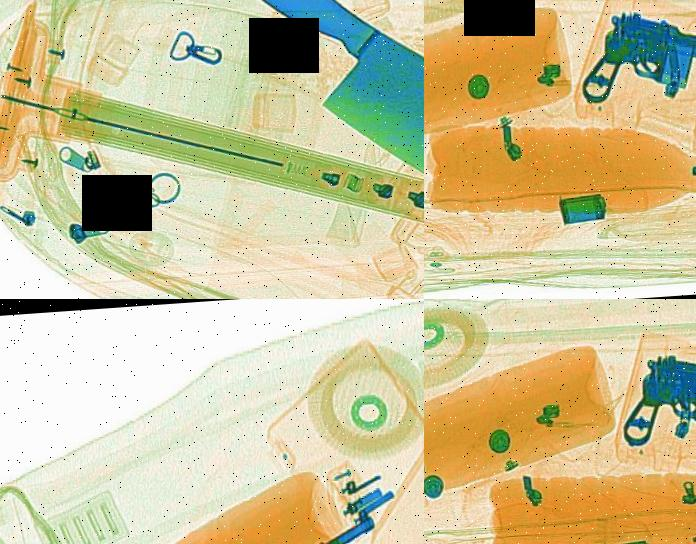Gun: (525, 0, 696, 142), (585, 339, 696, 474), (215, 505, 424, 544)
Knife: (166, 0, 424, 244)
